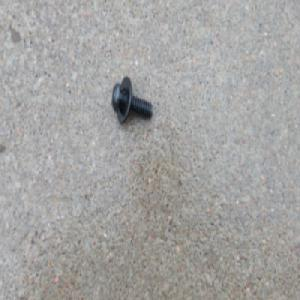BoltWasher: (112, 76, 154, 126)
